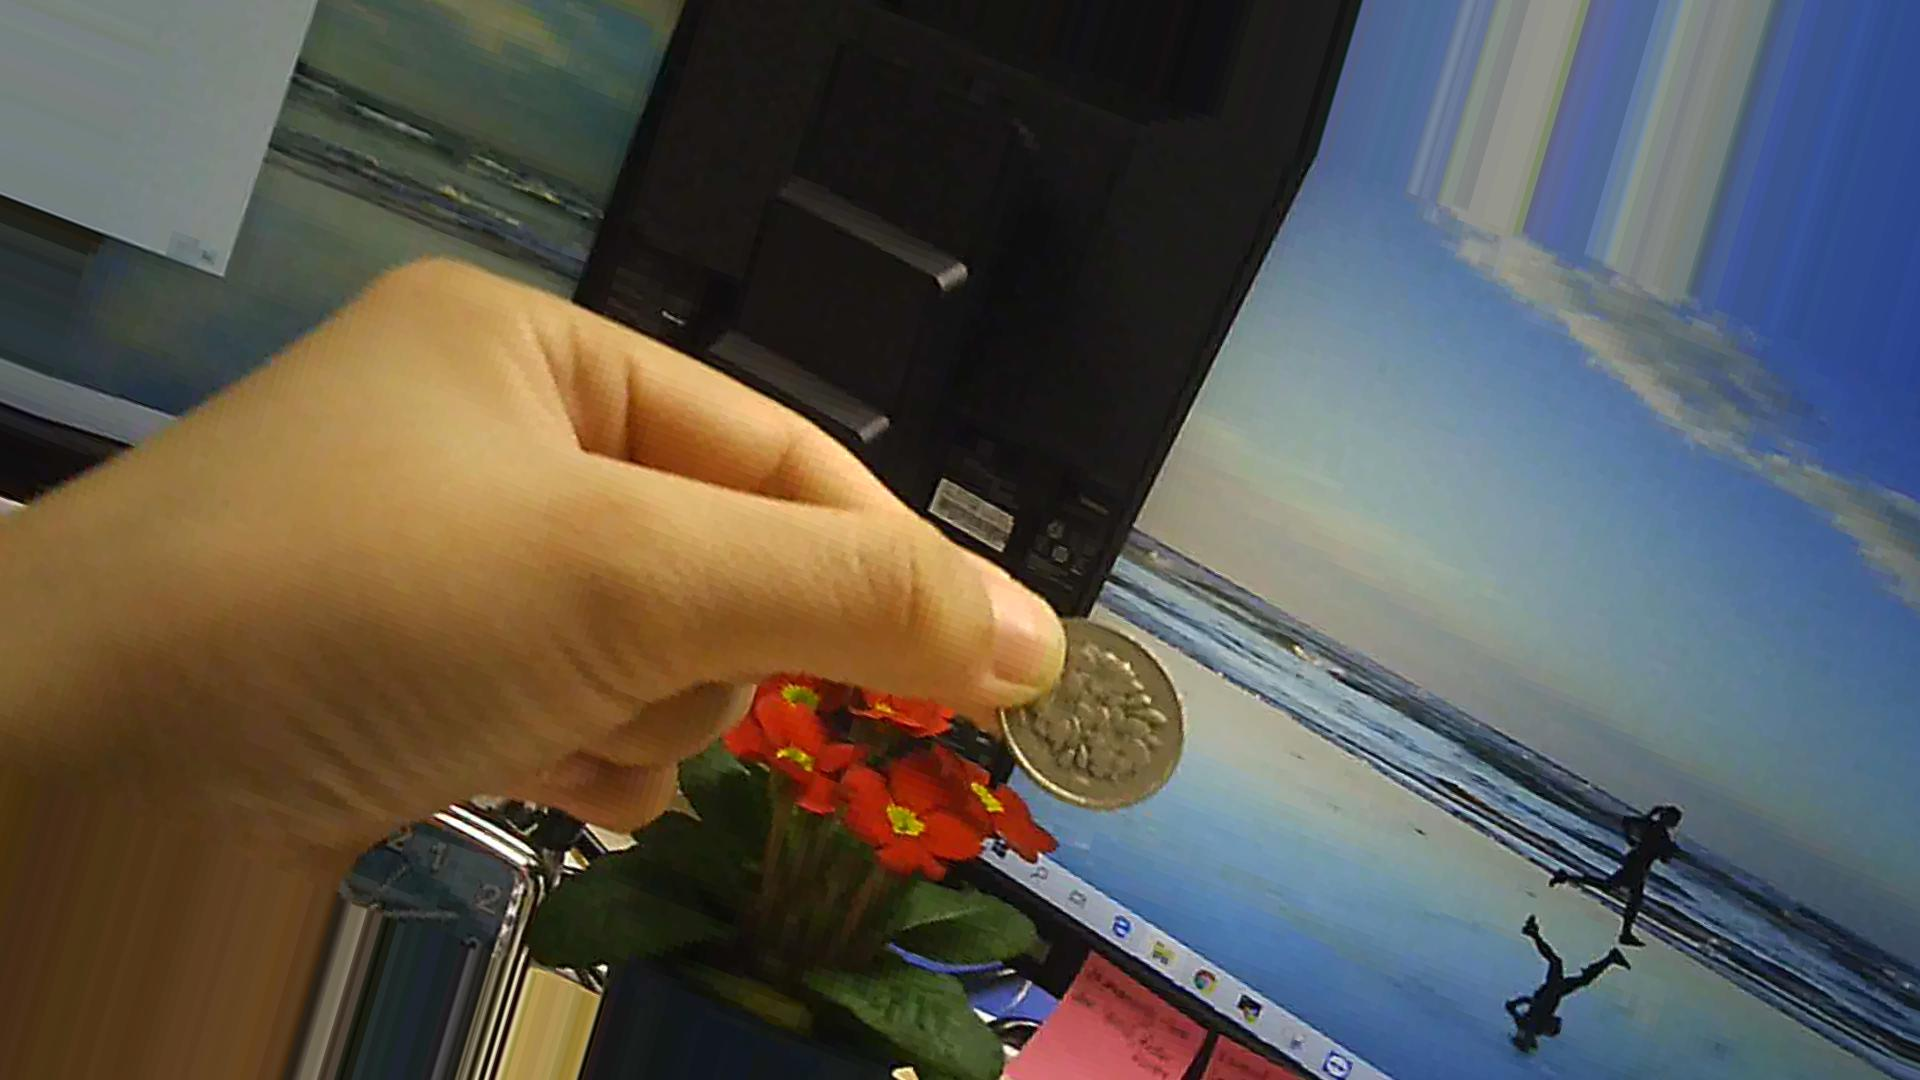100 Yen: (969, 609, 1189, 818)
